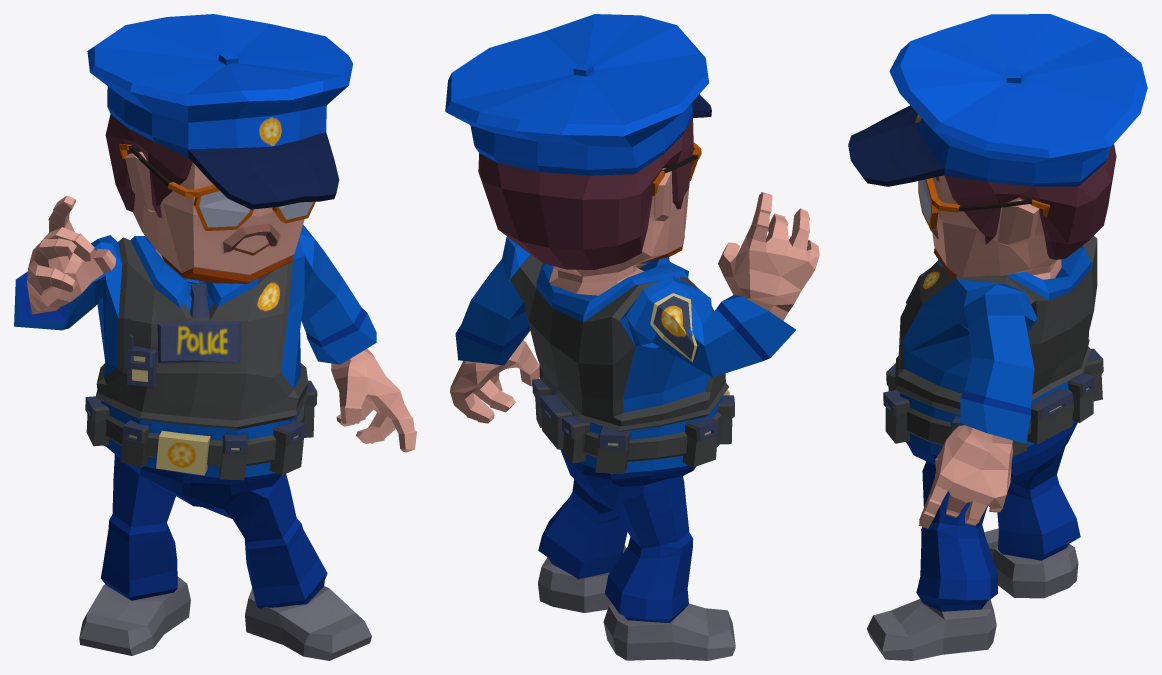
File: SK_Lowpoly_31.gltf
3 views of the same model, side by side, from view 1: azimuth 30°, elevation 25°; view 2: azimuth 150°, elevation 25°; view 3: azimuth 270°, elevation 25° (orthographic).
Parts seen in each view (by area): view 1: SK_Lowpoly_Male_031_Pose_13_StaticMeshComponent0; view 2: SK_Lowpoly_Male_031_Pose_13_StaticMeshComponent0; view 3: SK_Lowpoly_Male_031_Pose_13_StaticMeshComponent0.
Part boxes in pixels (left/top/right/bottom): SK_Lowpoly_Male_031_Pose_13_StaticMeshComponent0: left=14, top=14, right=416, bottom=660; SK_Lowpoly_Male_031_Pose_13_StaticMeshComponent0: left=445, top=14, right=819, bottom=660; SK_Lowpoly_Male_031_Pose_13_StaticMeshComponent0: left=848, top=14, right=1147, bottom=660.
Size of the model in its own units: 0.9635 by 1.45 by 0.7023.
Materials: 1 (1 with a texture image).
